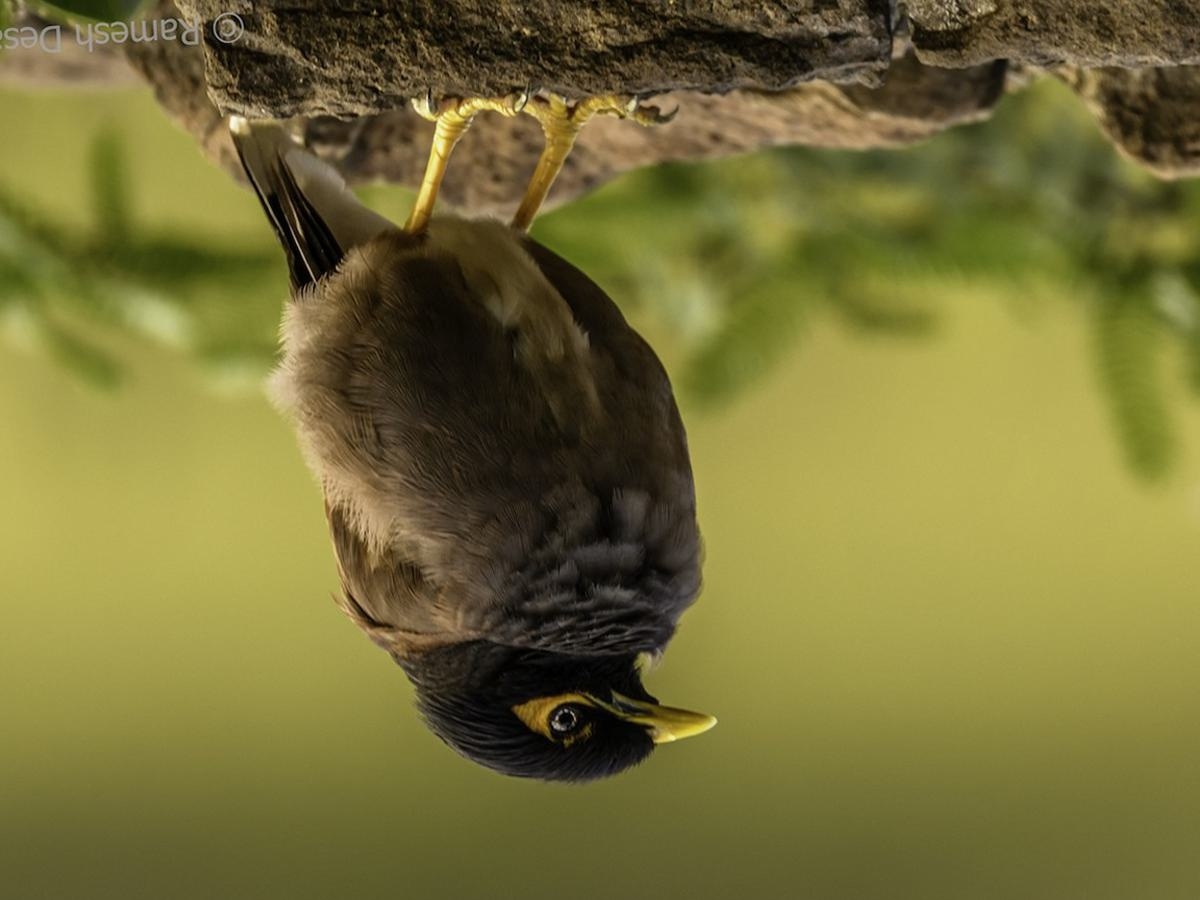myna: (243, 48, 757, 806)
